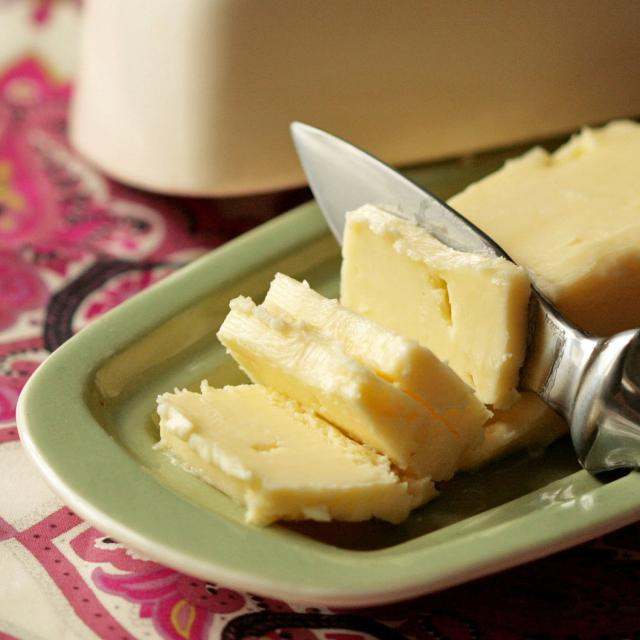Butter: (210, 284, 482, 488), (448, 116, 640, 351), (336, 211, 544, 409), (157, 372, 404, 527)
